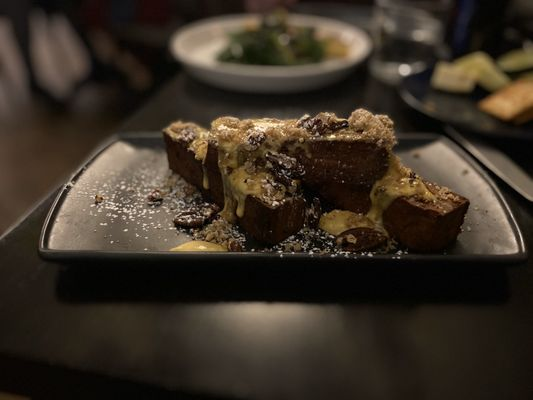pizza: (366, 0, 450, 85)
sushi: (169, 8, 375, 95)
